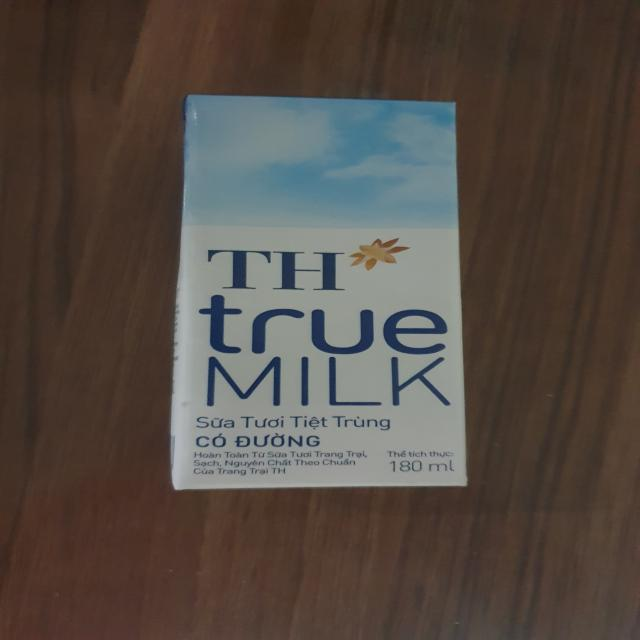TH: (161, 91, 484, 496)
